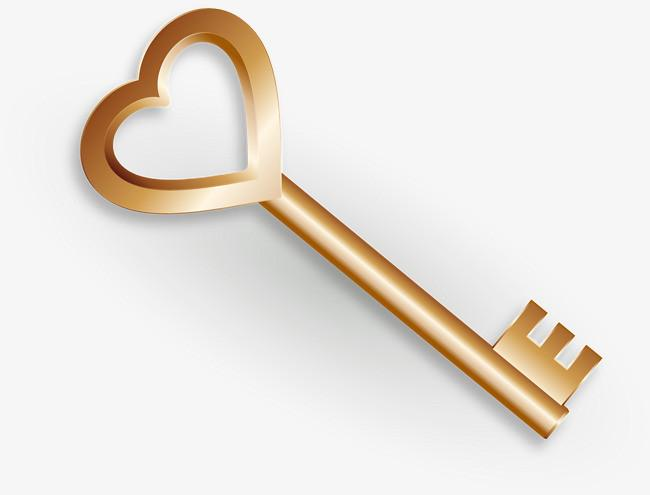key: (68, 2, 620, 455)
